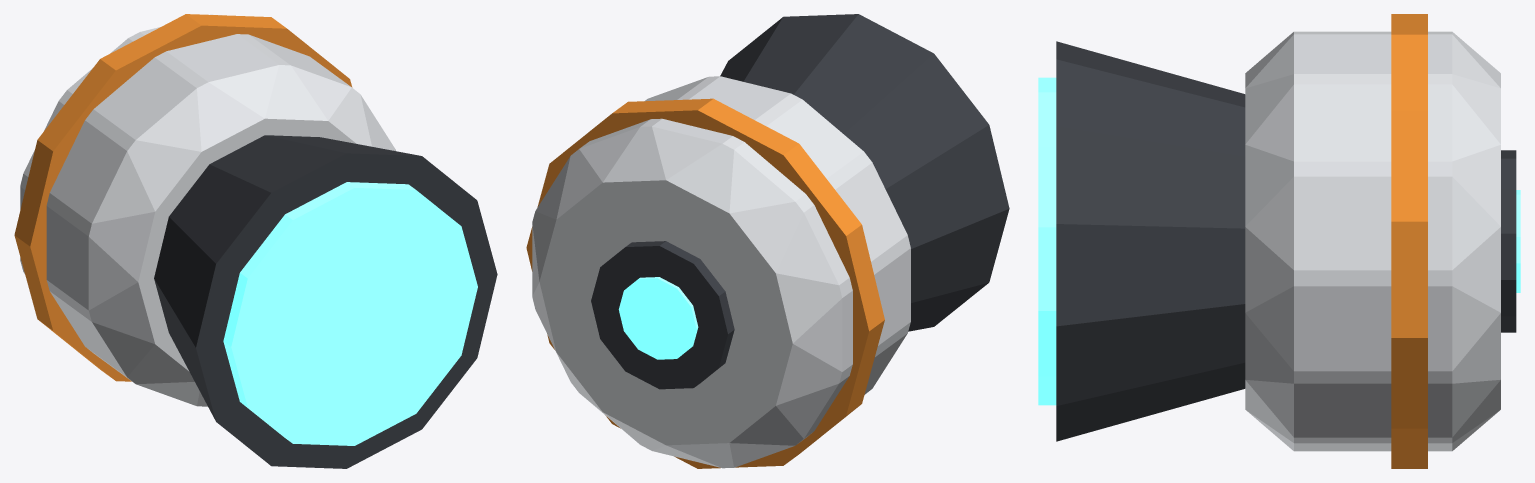
Rendered from thruster_small.glb.
3 renders of one model, left to right at view 1: azimuth 30°, elevation 25°; view 2: azimuth 150°, elevation 25°; view 3: azimuth 270°, elevation 25°, orthographic. The views are drawn at different scales.
Parts seen in each view (by area): view 1: thruster_small; view 2: thruster_small; view 3: thruster_small.
Boxes of the visible parts, bbox=[...] form: thruster_small: bbox=[14, 14, 497, 468]; thruster_small: bbox=[526, 14, 1009, 468]; thruster_small: bbox=[1038, 14, 1520, 468].
Size of the model in its own units: 0.75 by 0.75 by 0.7925.
